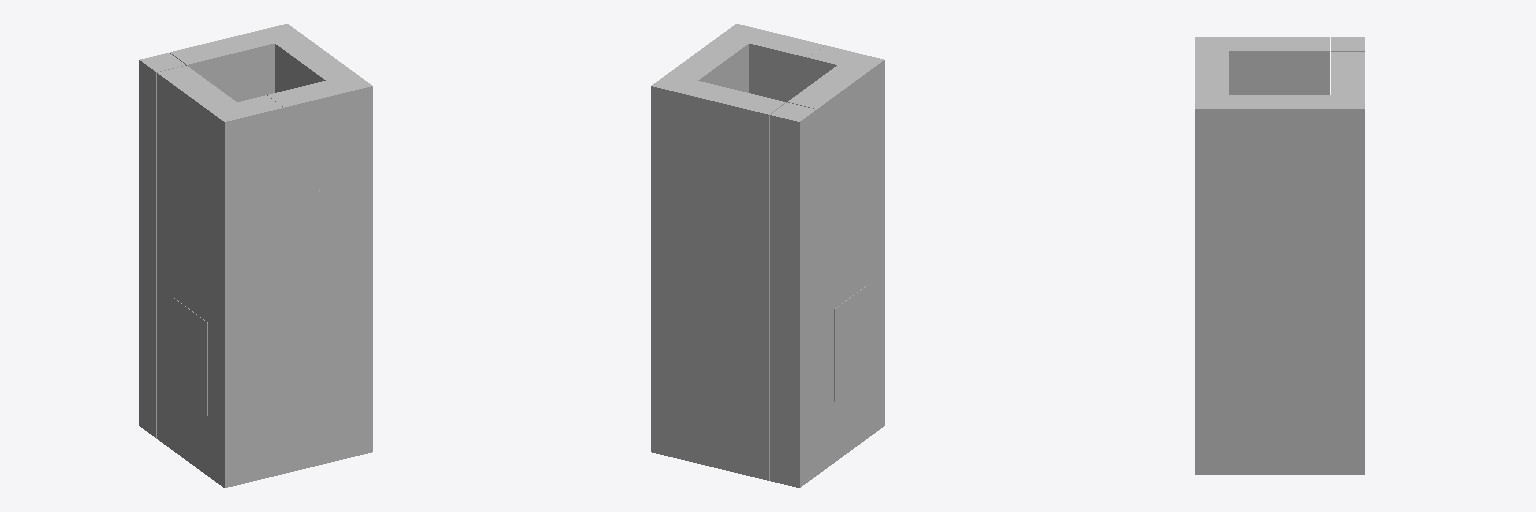
Rendered from decoration3.obj.
3 views of the same model, side by side, from view 1: azimuth 30°, elevation 25°; view 2: azimuth 150°, elevation 25°; view 3: azimuth 270°, elevation 25° (orthographic).
Parts seen in each view (by area): view 1: Cube.093_Cube.094, Cube.095_Cube.096, Cube.094_Cube.095, Cube.153_Cube.154, Cube.063_Cube.064, Cube.123_Cube.124, Cube.004, Cube.026_Cube.027, Cube.097_Cube.098, Cube.086_Cube.087, Cube.116_Cube.117, Cube.103_Cube.104 (+28 smaller); view 2: Cube.091_Cube.000, Cube.000_Cube.016, Cube.031_Cube.000, Cube.151_Cube.000, Cube.121_Cube.000, Cube.118_Cube.000, Cube.028_Cube.000, Cube.061_Cube.000, Cube.104_Cube.105, Cube.088_Cube.000, Cube.101_Cube.102, Cube.096_Cube.097 (+28 smaller); view 3: Cube.091_Cube.092, Cube.098_Cube.099, Cube.100_Cube.101, Cube.099_Cube.100, Cube.101_Cube.102, Cube.097_Cube.098, Cube.092_Cube.093, Cube.090_Cube.091, Cube.161_Cube.162, Cube.048_Cube.049, Cube.158_Cube.159, Cube.051_Cube.052 (+28 smaller).
Part boxes in pixels (left/top/right/bottom): Cube.093_Cube.094: left=208, top=103, right=253, bottom=152; Cube.095_Cube.096: left=267, top=88, right=313, bottom=137; Cube.094_Cube.095: left=237, top=95, right=283, bottom=145; Cube.153_Cube.154: left=208, top=233, right=253, bottom=275; Cube.063_Cube.064: left=208, top=323, right=253, bottom=365; Cube.123_Cube.124: left=208, top=172, right=253, bottom=214; Cube.004: left=208, top=445, right=253, bottom=487; Cube.026_Cube.027: left=208, top=415, right=253, bottom=457; Cube.097_Cube.098: left=327, top=73, right=372, bottom=123; Cube.086_Cube.087: left=208, top=294, right=253, bottom=334; Cube.116_Cube.117: left=208, top=141, right=253, bottom=183; Cube.103_Cube.104: left=199, top=38, right=245, bottom=87; Cube.091_Cube.000: left=770, top=102, right=816, bottom=152; Cube.000_Cube.016: left=770, top=445, right=816, bottom=487; Cube.031_Cube.000: left=770, top=383, right=816, bottom=425; Cube.151_Cube.000: left=770, top=232, right=816, bottom=275; Cube.121_Cube.000: left=770, top=172, right=816, bottom=214; Cube.118_Cube.000: left=770, top=141, right=816, bottom=183; Cube.028_Cube.000: left=770, top=414, right=816, bottom=456; Cube.061_Cube.000: left=770, top=322, right=816, bottom=364; Cube.104_Cube.105: left=740, top=95, right=785, bottom=144; Cube.088_Cube.000: left=770, top=292, right=816, bottom=334; Cube.101_Cube.102: left=651, top=74, right=696, bottom=123; Cube.096_Cube.097: left=749, top=31, right=794, bottom=80; Cube.091_Cube.092: left=1295, top=37, right=1329, bottom=81; Cube.098_Cube.099: left=1229, top=95, right=1262, bottom=139; Cube.100_Cube.101: left=1297, top=95, right=1330, bottom=139; Cube.099_Cube.100: left=1263, top=95, right=1296, bottom=139; Cube.101_Cube.102: left=1331, top=95, right=1364, bottom=139; Cube.097_Cube.098: left=1195, top=95, right=1228, bottom=139; Cube.092_Cube.093: left=1228, top=37, right=1262, bottom=81; Cube.090_Cube.091: left=1261, top=37, right=1295, bottom=81; Cube.161_Cube.162: left=1331, top=231, right=1364, bottom=262; Cube.048_Cube.049: left=1331, top=352, right=1364, bottom=383; Cube.158_Cube.159: left=1229, top=231, right=1262, bottom=262; Cube.051_Cube.052: left=1229, top=352, right=1262, bottom=383.
Size of the model in its own units: 5.95 by 13.97 by 5.9.